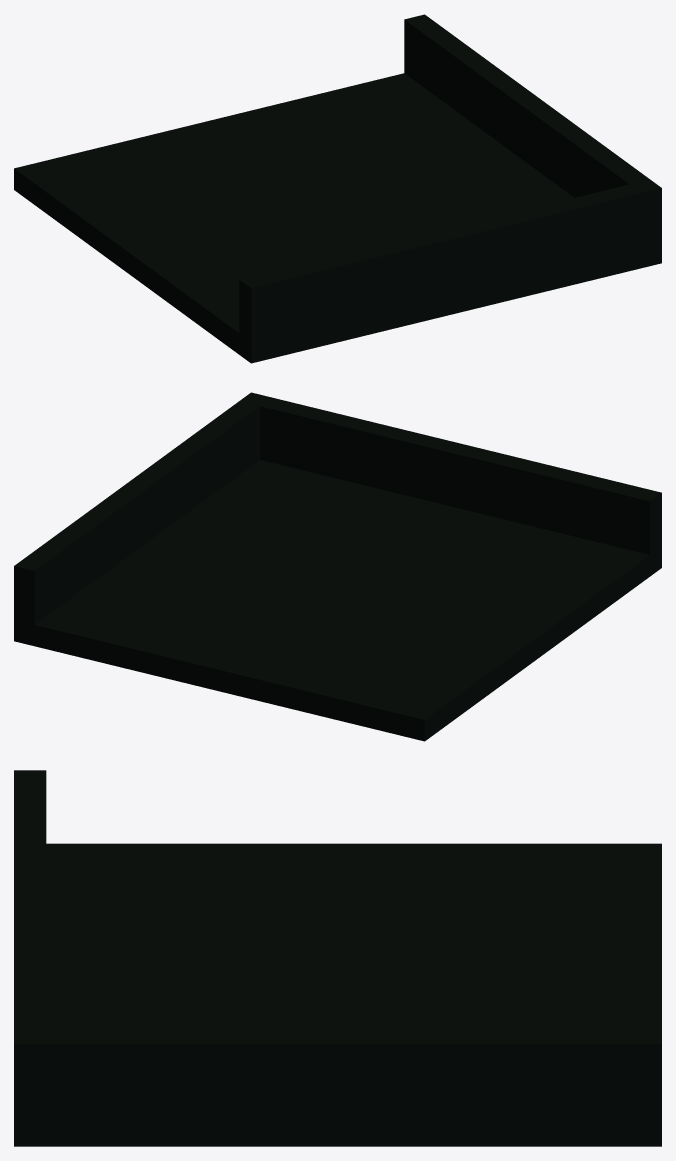
The model's file is BlackRoof_Corner.glb.
3 views of the same model, one above another, from view 1: azimuth 30°, elevation 25°; view 2: azimuth 150°, elevation 25°; view 3: azimuth 270°, elevation 25° (orthographic). The views are drawn at different scales.
Parts seen in each view (by area): view 1: roof_flat_corner_black; view 2: roof_flat_corner_black; view 3: roof_flat_corner_black.
Part boxes in pixels (x1,y1,x2,y2): roof_flat_corner_black: (14,14,661,363); roof_flat_corner_black: (14,392,661,741); roof_flat_corner_black: (14,770,661,1146).
Size of what is drawn, in the model's own units: 4 by 0.7 by 4.
Materials: 1 (1 with a texture image).
